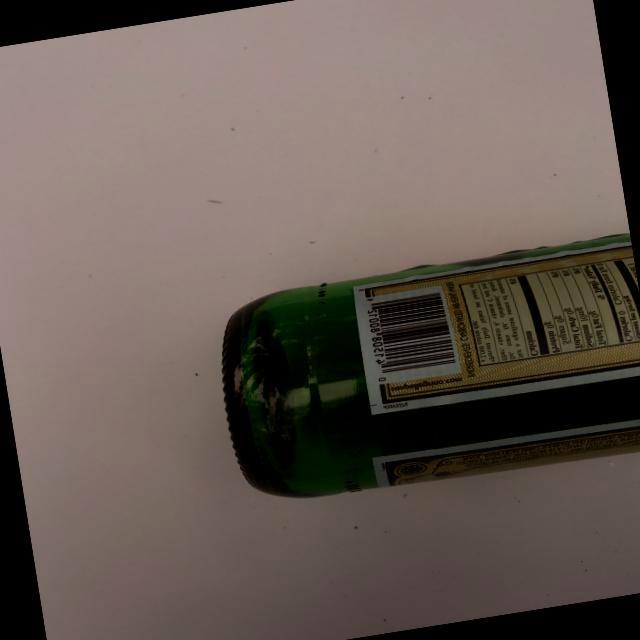glass: (190, 216, 640, 534)
